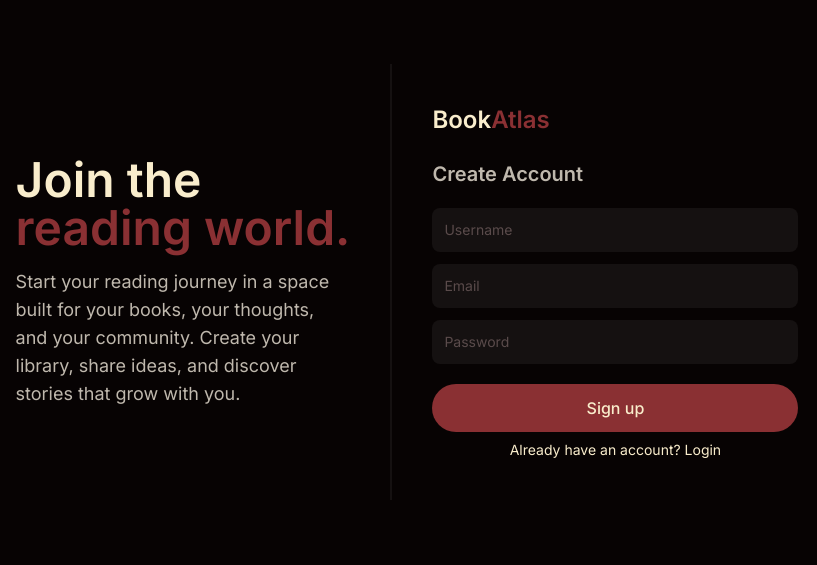
Test case: RegisterPage › shows errors when all fields are empty
The image size is (817, 565).
Click the button "Sign up" at (615, 408), box top-left (432, 384), bottom-right (798, 432)
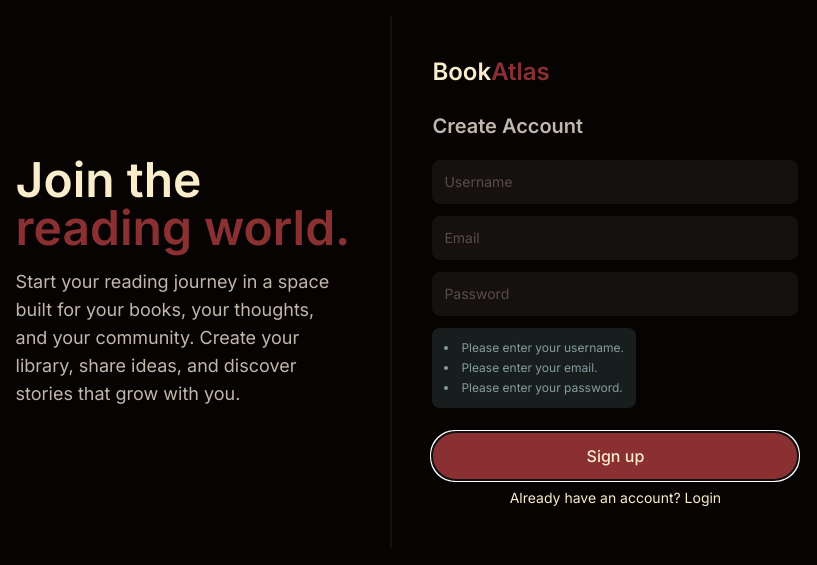
Expected: the list item "Please enter your username." is shown, top-left (444, 340), bottom-right (624, 356)
Expected: the list item "Please enter your email." is shown, top-left (461, 360), bottom-right (598, 375)
Expected: the list item "Please enter your password." is shown, top-left (444, 380), bottom-right (624, 396)
